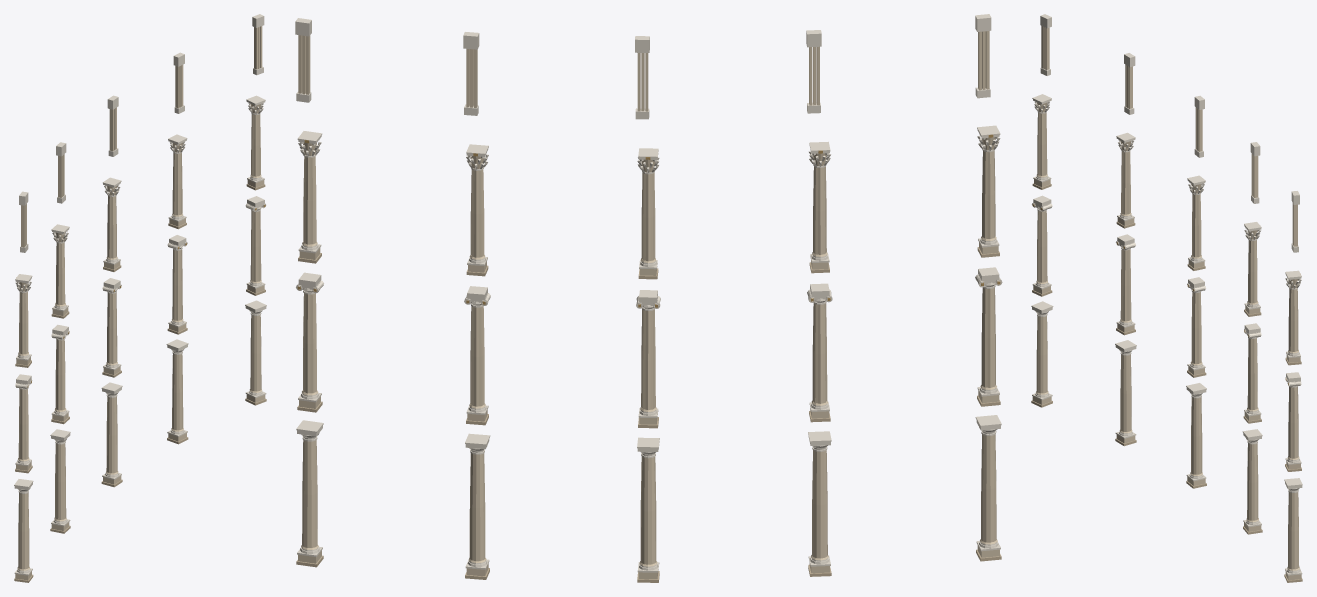
File: COL_ColumnOrders_O6.glb
3 views of the same model, side by side, from view 1: azimuth 30°, elevation 25°; view 2: azimuth 150°, elevation 25°; view 3: azimuth 270°, elevation 25° (orthographic). The views are drawn at different scales.
Parts seen in each view (by area): view 1: COL_ColumnOrders_O6; view 2: COL_ColumnOrders_O6; view 3: COL_ColumnOrders_O6.
Boxes of the visible parts, x1,y1,x2,y2 form: COL_ColumnOrders_O6: [14, 14, 266, 582]; COL_ColumnOrders_O6: [295, 14, 1002, 582]; COL_ColumnOrders_O6: [1031, 14, 1302, 582].
Size of the model in its own units: 59.53 by 58.2 by 36.96.
